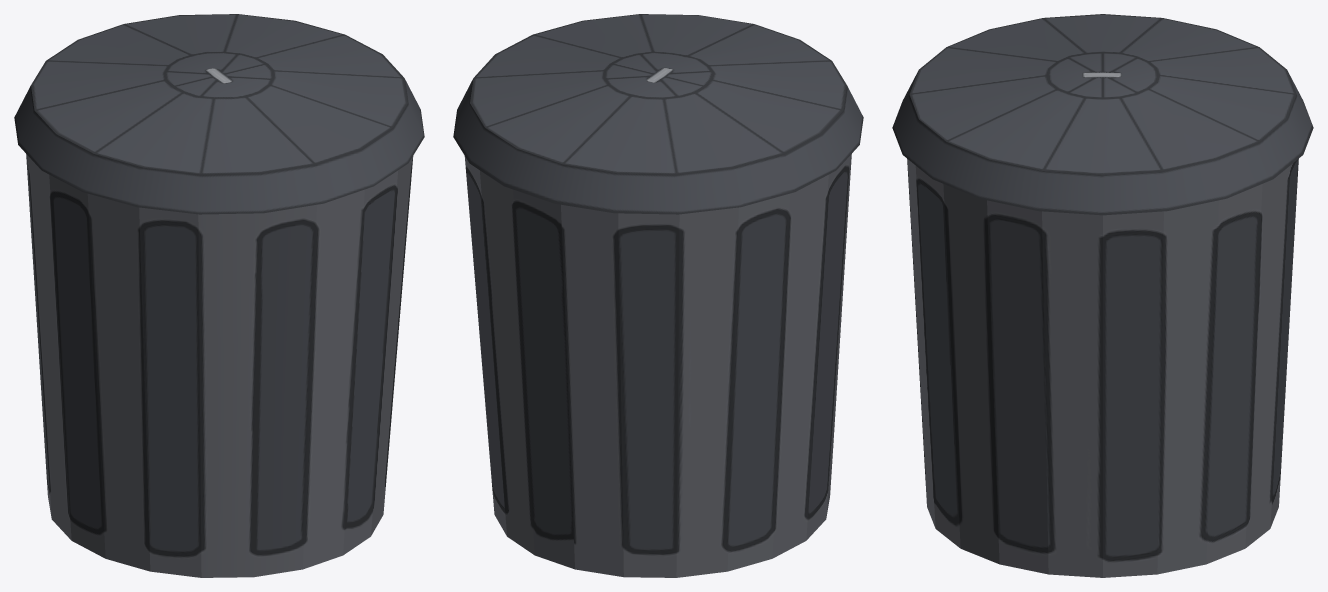
Rendered from trashcan.fbx.
3 renders of one model, left to right at view 1: azimuth 30°, elevation 25°; view 2: azimuth 150°, elevation 25°; view 3: azimuth 270°, elevation 25°, orthographic.
Visible parts, largest first — view 1: polySurface80; view 2: polySurface80; view 3: polySurface80.
Part boxes in pixels (x1=…): polySurface80: x1=14, y1=14, x2=424, y2=577; polySurface80: x1=453, y1=14, x2=863, y2=577; polySurface80: x1=892, y1=14, x2=1313, y2=577.
Size of the model in its own units: 0.8784 by 1.01 by 0.8929.
Materials: 1 (1 with a texture image).
